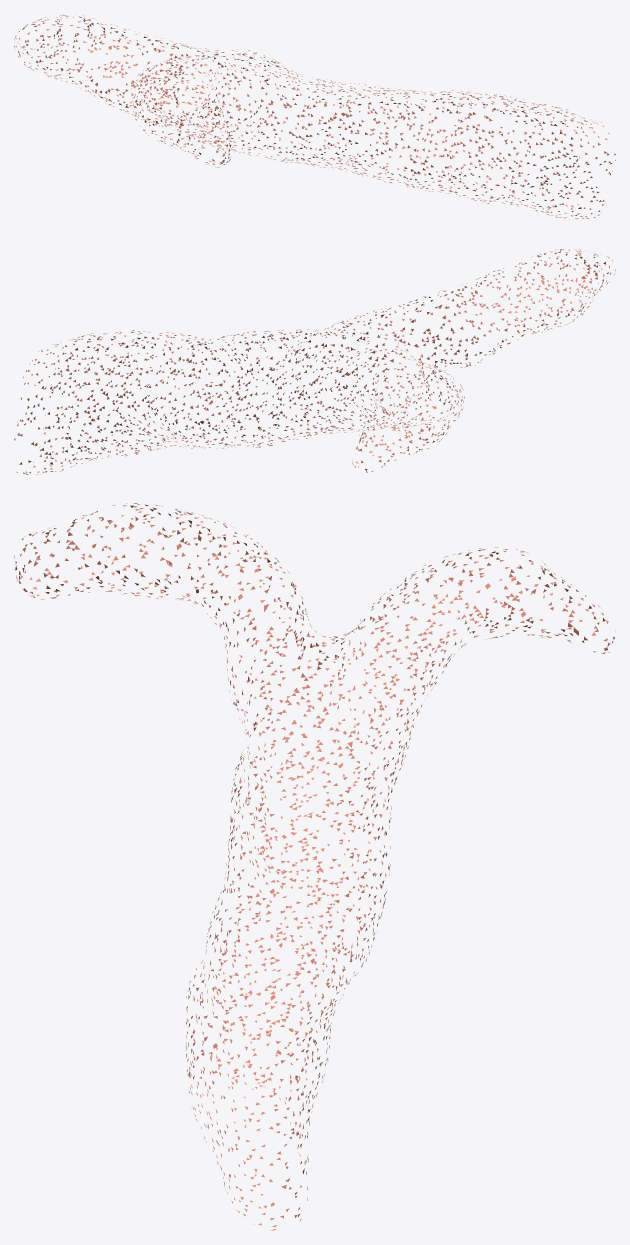
File: morph_002.glb
3 views of the same model, one above another, from view 1: azimuth 30°, elevation 25°; view 2: azimuth 150°, elevation 25°; view 3: azimuth 270°, elevation 25° (orthographic). The views are drawn at different scales.
Bounding box in the file's own units: 117 × 62.96 × 86.41.
